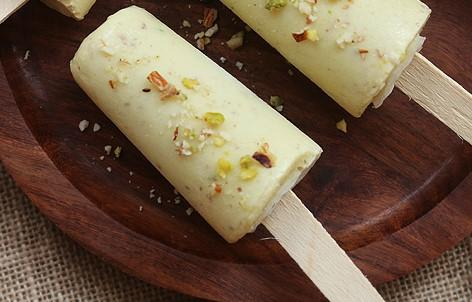Kulfi: (67, 6, 324, 243), (221, 0, 432, 120)
